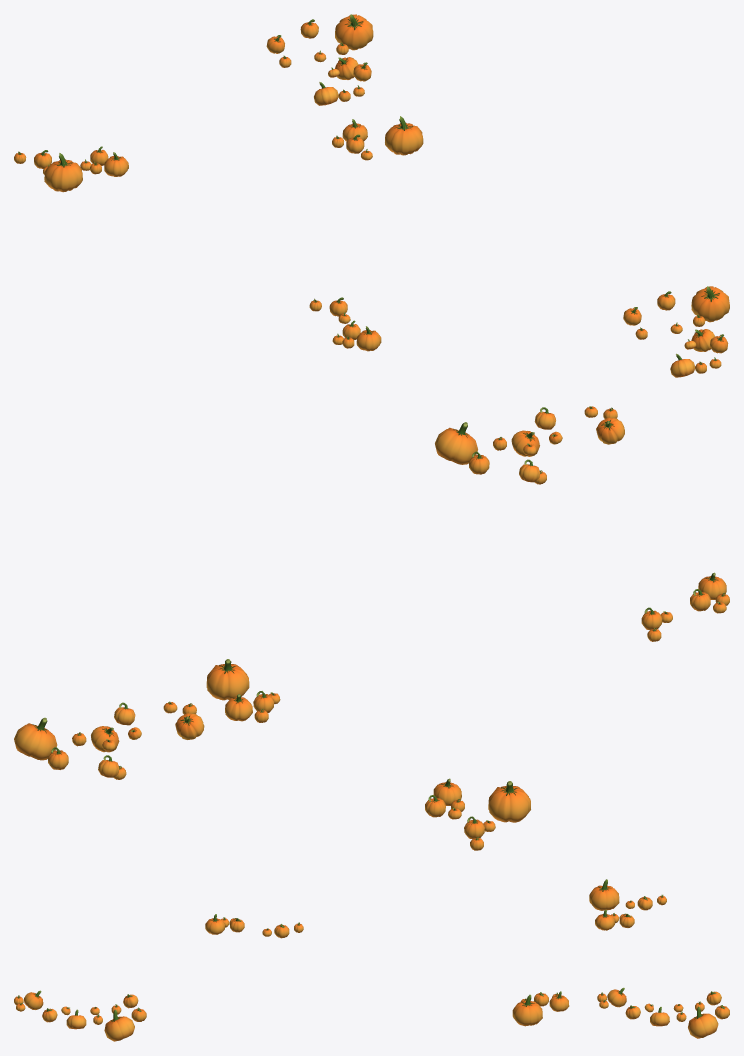
File: pumpkinB.fbx
3 renders of one model, top to bottom at view 1: azimuth 30°, elevation 25°; view 2: azimuth 150°, elevation 25°; view 3: azimuth 270°, elevation 25°, orthographic. The views are drawn at different scales.
Parts seen in each view (by area): view 1: pumpkinB; view 2: pumpkinB; view 3: pumpkinB.
Boxes of the visible parts, x1,y1,x2,y2 form: pumpkinB: (14,14,729,377); pumpkinB: (14,406,729,850); pumpkinB: (14,879,729,1041).
Bounding box in the file's own units: 1138 × 129 × 2271.
Materials: 1 (1 with a texture image).
